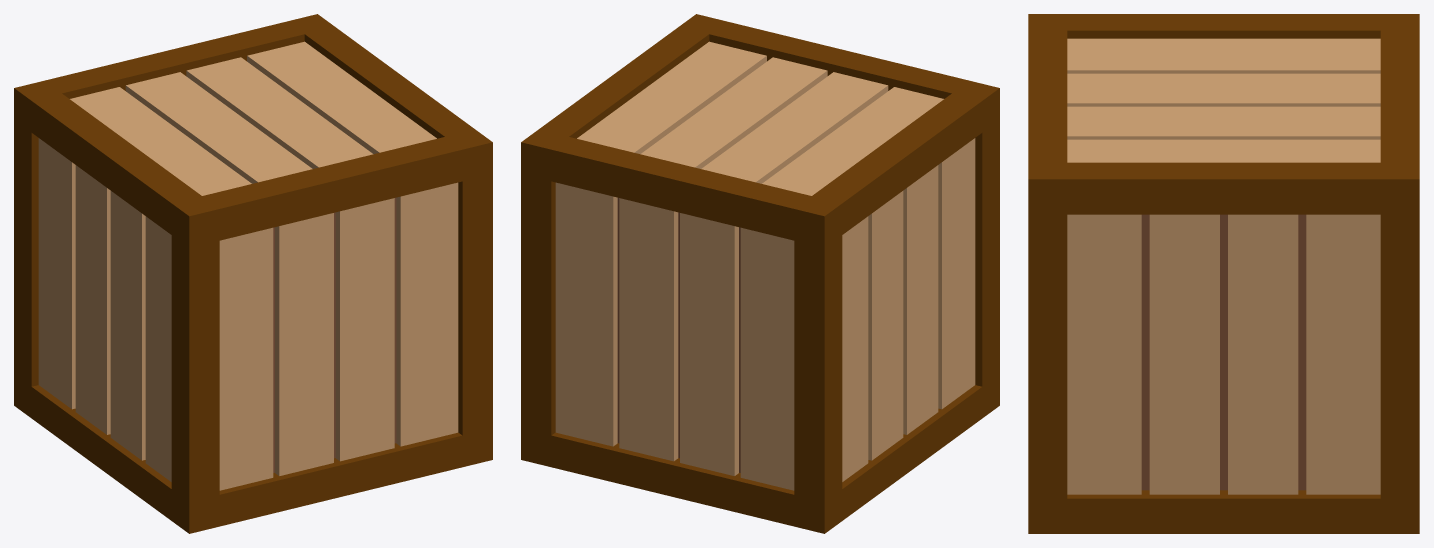
File: large_crate.fbx
3 views of the same model, side by side, from view 1: azimuth 30°, elevation 25°; view 2: azimuth 150°, elevation 25°; view 3: azimuth 270°, elevation 25° (orthographic). The views are drawn at different scales.
Parts seen in each view (by area): view 1: Lcrate_edge, Lplanks1, Lplanks2, Lplanks3, Lcrate_inner; view 2: Lcrate_edge, Lplanks1, Lplanks2, Lplanks3, Lcrate_inner; view 3: Lplanks2, Lcrate_edge, Lplanks3, Lcrate_inner.
Boxes of the visible parts, bbox=[...] form: Lcrate_edge: bbox=[14, 14, 492, 533]; Lplanks1: bbox=[219, 182, 458, 490]; Lplanks2: bbox=[38, 138, 171, 481]; Lplanks3: bbox=[70, 41, 436, 195]; Lcrate_inner: bbox=[273, 197, 396, 472]; Lcrate_edge: bbox=[521, 14, 999, 533]; Lplanks1: bbox=[555, 182, 794, 490]; Lplanks2: bbox=[842, 138, 975, 481]; Lplanks3: bbox=[577, 41, 943, 195]; Lcrate_inner: bbox=[617, 197, 740, 472]; Lplanks2: bbox=[1067, 214, 1380, 494]; Lcrate_edge: bbox=[1028, 14, 1419, 533]; Lplanks3: bbox=[1067, 38, 1380, 162]; Lcrate_inner: bbox=[1141, 214, 1306, 490].
Bounding box in the file's own units: 200 × 200 × 200.
